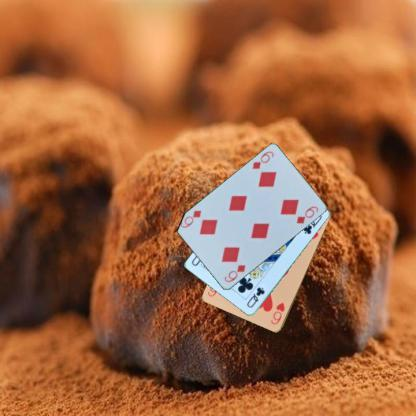6d: (250, 148, 275, 171), (222, 262, 247, 284)
6h: (268, 300, 286, 326)
Qc: (245, 284, 266, 310)
